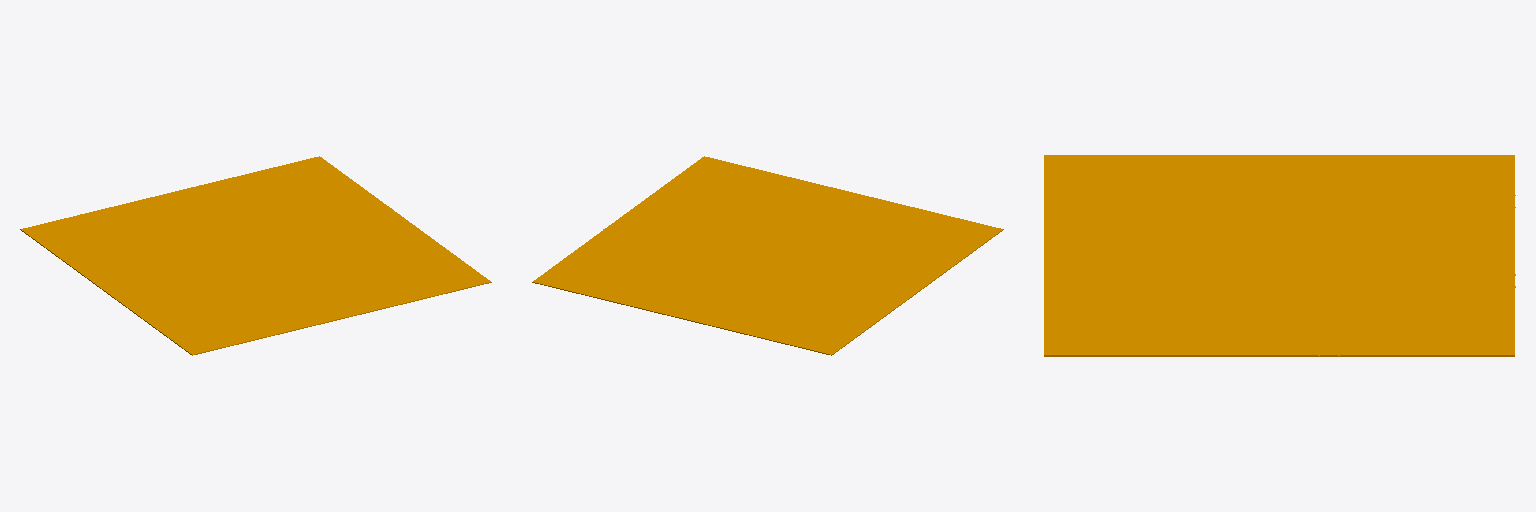
URDF robot description (aws_robomaker_warehouse_GroundB_01):
<?xml version="1.0" ?>
<!--
  URDF translation of models/aws_robomaker_warehouse_GroundB_01/model.sdf.

  URDF cannot express three things the SDF relies on, so they are carried in
  <gazebo> extension blocks below and re-emitted when libsdformat converts this
  file back to SDF at spawn time:
    * <static>          - no URDF equivalent at all
    * <surface><friction> - becomes <mu1>/<mu2> on the link
    * mesh URIs         - package:// here so RViz resolves them; see README note

  The mesh sits 0 .. 0.124 m above this model's origin, i.e. the origin is at
  the slab's underside, not its walking surface.
-->
<robot name="aws_robomaker_warehouse_GroundB_01">

  <link name="ground_link">
    <inertial>
      <origin xyz="0 0 0" rpy="0 0 0"/>
      <mass value="1000"/>
      <!-- Solid-box inertia for the 13.98 x 20.907 x 0.124 m collision mesh.
           The original values violated the inertia triangle inequality, which
           Gazebo Classic ignored but libsdformat12 rejects outright. -->
      <inertia ixx="36425.342" ixy="0" ixz="0"
               iyy="16289.083" iyz="0"
               izz="52711.849"/>
    </inertial>

    <!-- Deliberately unnamed: a name= attribute on <visual>/<collision> makes
         libsdformat's URDF parser rename them to *_fixed_joint_lump__*, and the
         <gazebo reference> friction extension below then fails to match and is
         silently dropped. Verified with `ign sdf -p`. -->
    <visual>
      <origin xyz="0 0 0" rpy="0 0 0"/>
      <geometry>
        <mesh filename="package://aws_robomaker_small_warehouse_world/models/aws_robomaker_warehouse_GroundB_01/meshes/aws_robomaker_warehouse_GroundB_01_visual.DAE"/>
      </geometry>
      <!-- No <material> on purpose: the COLLADA file carries its own, and
           declaring one here would override the floor texture with flat colour. -->
    </visual>

    <collision>
      <origin xyz="0 0 0" rpy="0 0 0"/>
      <geometry>
        <mesh filename="package://aws_robomaker_small_warehouse_world/models/aws_robomaker_warehouse_GroundB_01/meshes/aws_robomaker_warehouse_GroundB_01_collision.DAE" scale="1 1 1"/>
      </geometry>
    </collision>
  </link>

  <!-- Model-level extension: <static>1</static> in the source SDF. Without
       this the floor is a 1000 kg free body and falls out of the world. -->
  <gazebo>
    <static>true</static>
  </gazebo>

  <!-- Link-level extension: the ODE friction block from the source SDF.
       mu/mu2 100/50 is the anisotropic warehouse floor grip. -->
  <gazebo reference="ground_link">
    <mu1>100</mu1>
    <mu2>50</mu2>
    <fdir1>0 0 0</fdir1>
    <!-- The source SDF also set slip1/slip2 to 0. They are omitted here because
         the URDF parser has no mapping for them and emits them as bare <link>
         children, which is not valid SDF. 0 is the ODE default regardless. -->
  </gazebo>

</robot>

--- Facts derived from the render (not from the file) ---
Views: 3 orthographic renders of the robot side by side, from view 1: azimuth 30°, elevation 25°; view 2: azimuth 150°, elevation 25°; view 3: azimuth 270°, elevation 25°.
Model aws_robomaker_warehouse_GroundB_01 with 1 links and 0 joints (none), rooted at ground_link, posed all joints at 0.
Visible links, largest first — view 1: ground_link; view 2: ground_link; view 3: ground_link.
Boxes of the visible links, left/top/right/bottom form: ground_link: left=20, top=156, right=491, bottom=355; ground_link: left=532, top=156, right=1003, bottom=355; ground_link: left=1044, top=155, right=1515, bottom=356.
Size in the robot's own frame: 42.15 by 41.84 by 0.1245 metres.
Meshes: 1 distinct files referenced, 1 mesh visuals loaded (1 Collada DAE).
